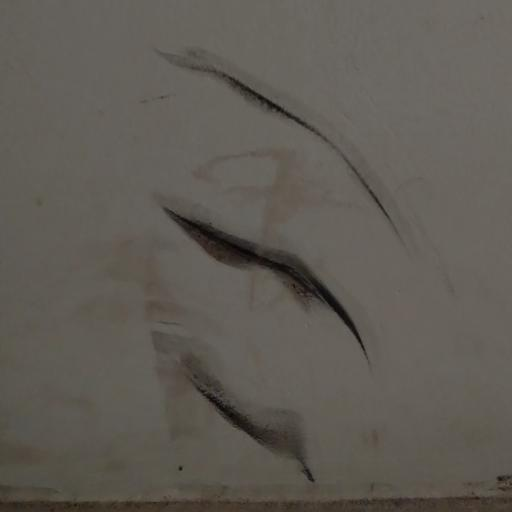stain: (139, 29, 417, 499)
